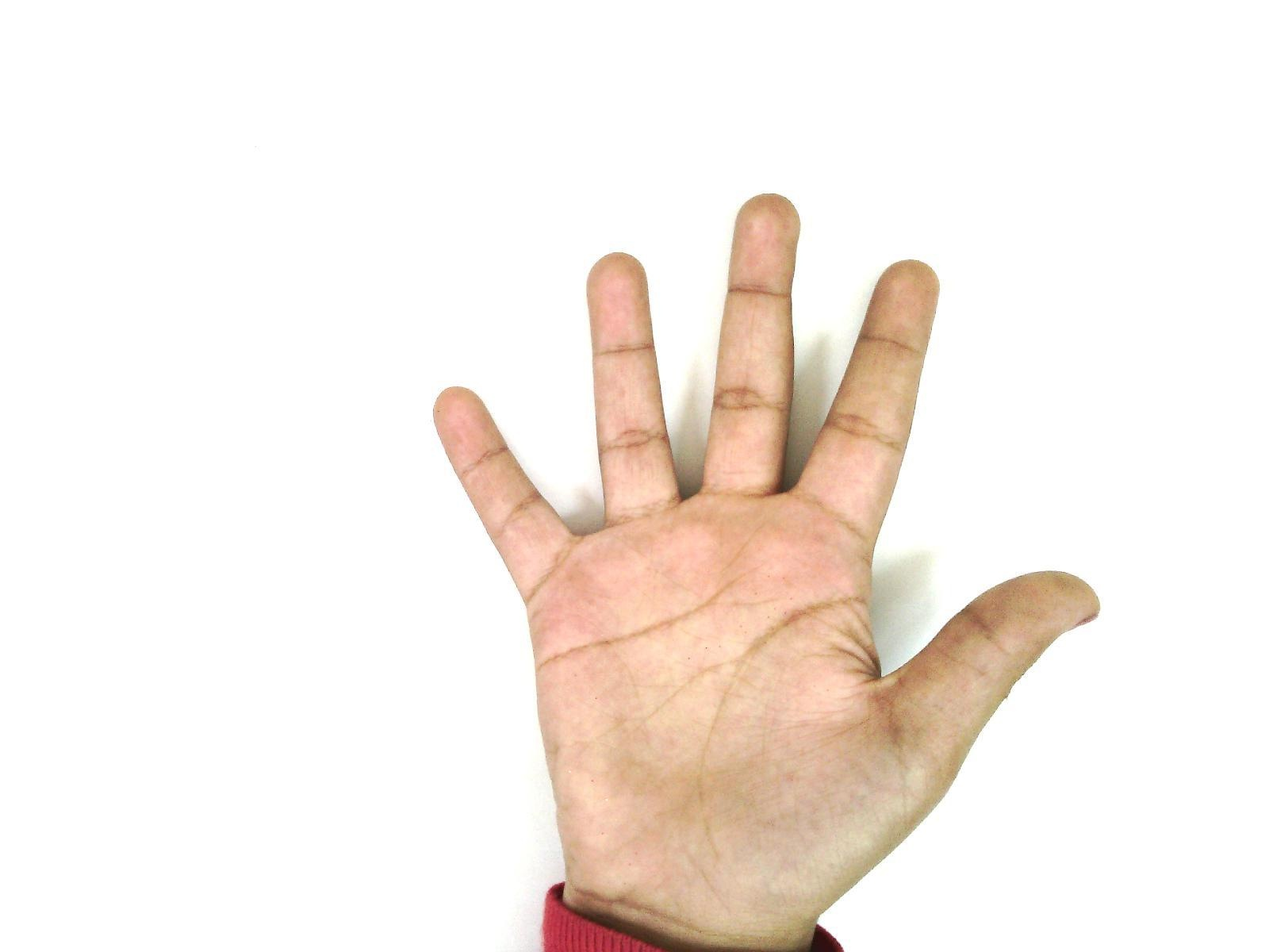open_palm: (429, 192, 1109, 931)
